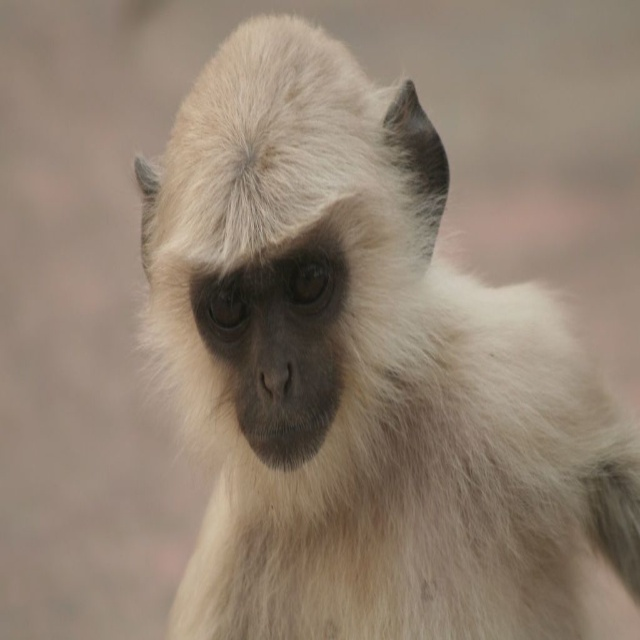Monkey: (133, 12, 640, 640)
